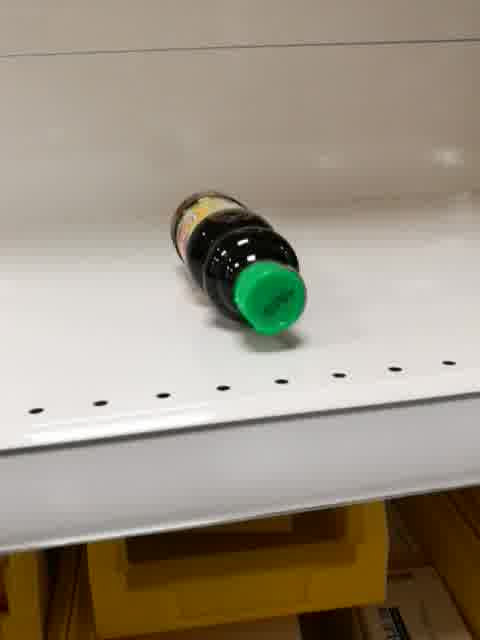cookingoil: (168, 188, 310, 338)
